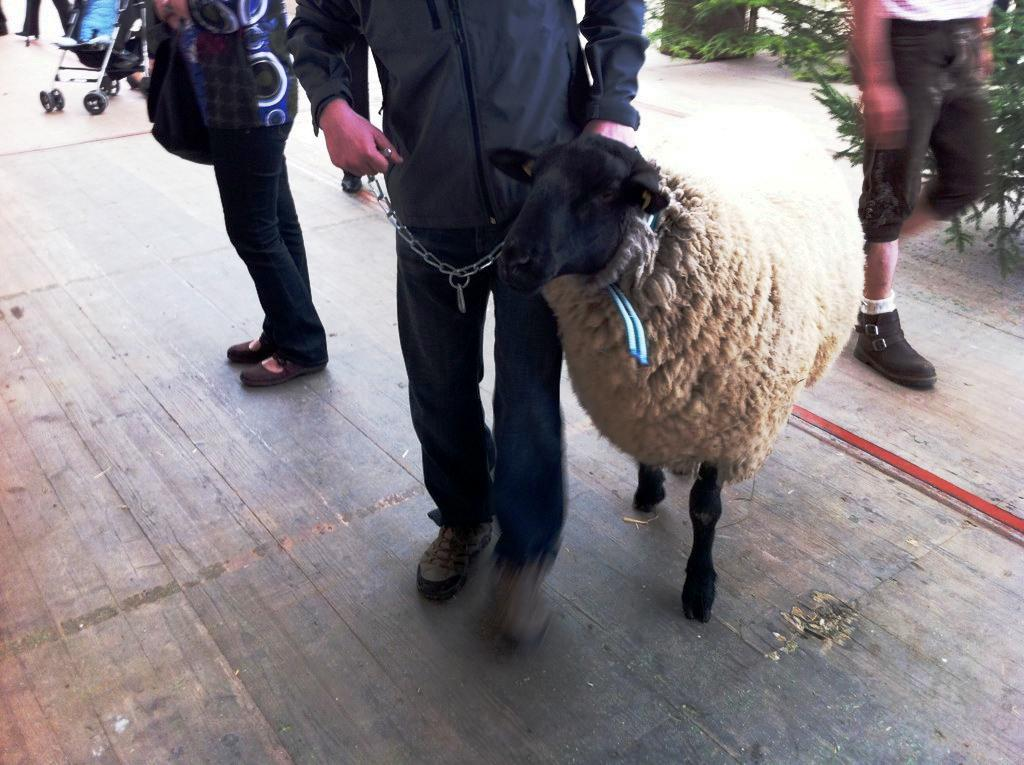Sheep: (477, 103, 862, 620)
